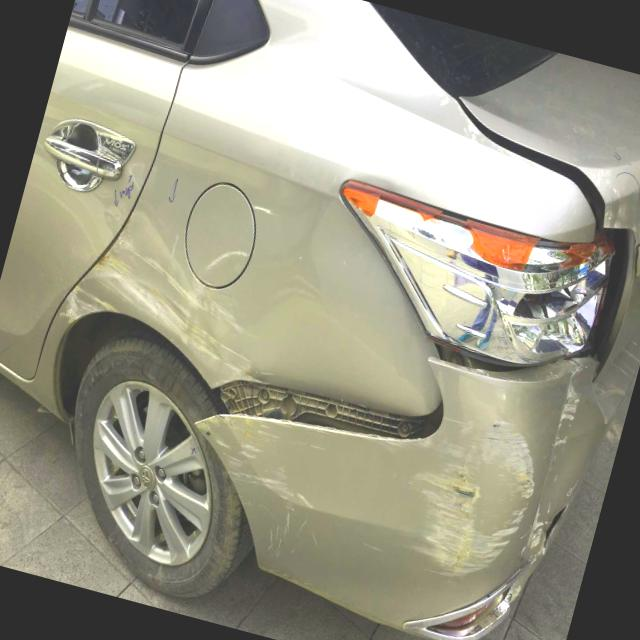Cabossage: (240, 176, 372, 355)
Dechirure: (162, 329, 467, 517), (406, 311, 592, 406), (529, 483, 579, 571)
Phare abime: (306, 163, 630, 383)
Rayure: (52, 222, 297, 384), (360, 391, 551, 595), (168, 408, 358, 598)
